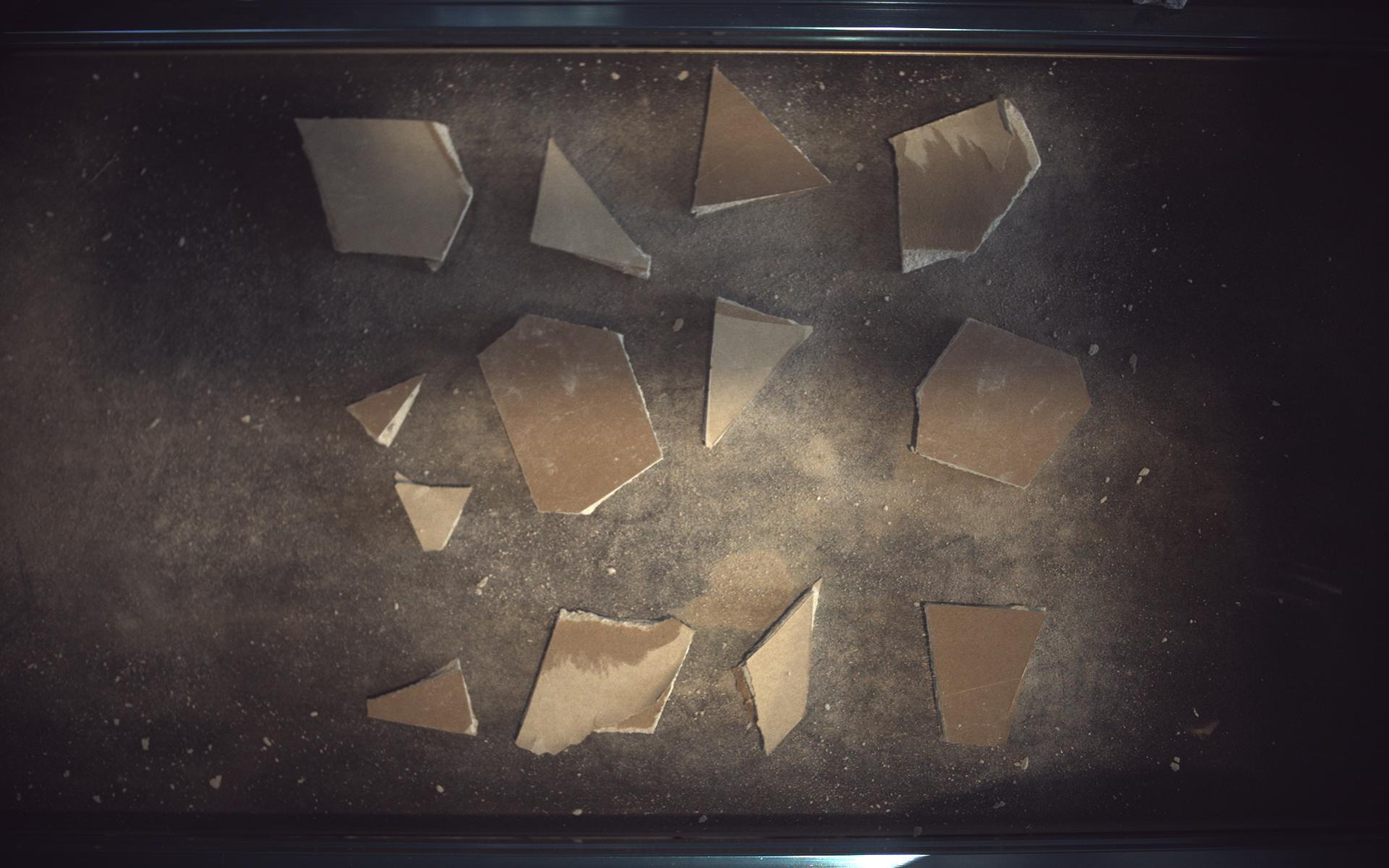gypsum_board: (479, 314, 663, 514), (917, 318, 1092, 488), (295, 118, 473, 270), (892, 95, 1042, 271), (516, 610, 694, 756), (692, 65, 831, 215), (531, 137, 652, 278), (927, 605, 1047, 747), (705, 297, 815, 448), (734, 579, 824, 756), (366, 659, 478, 737), (394, 472, 472, 552), (346, 374, 425, 447)
